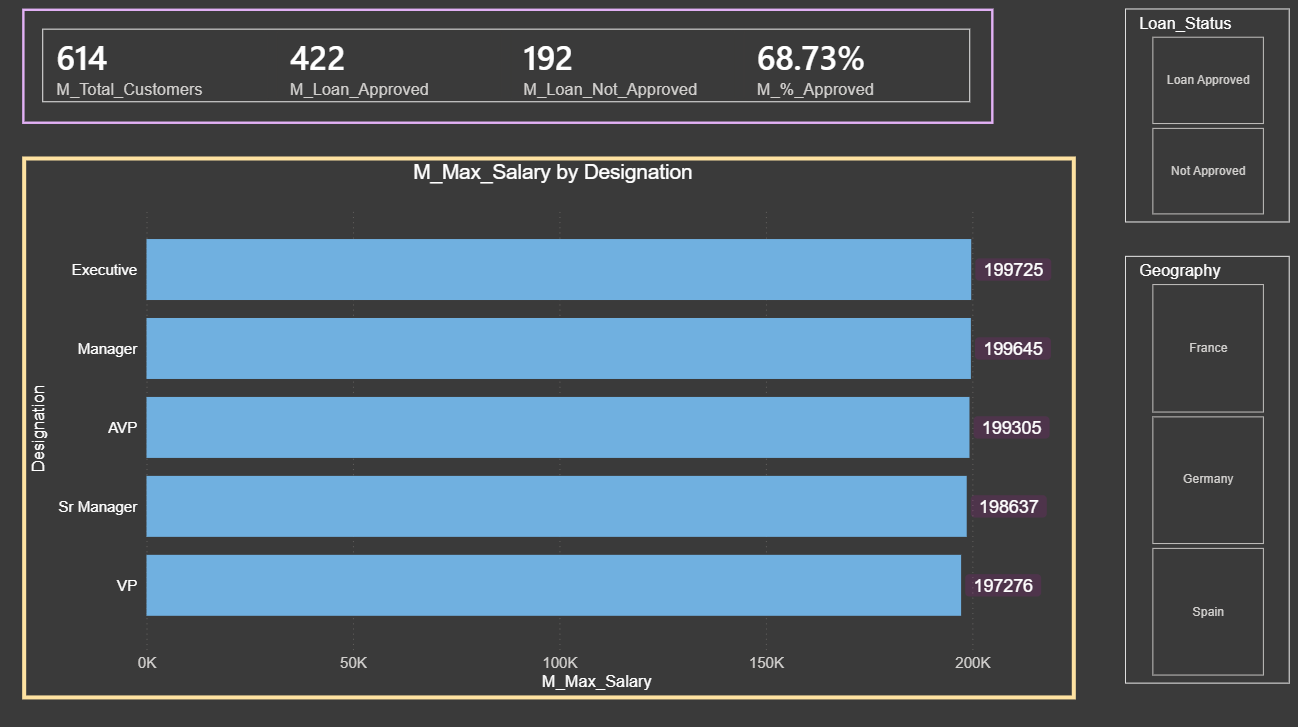

The dashboard page shown, as its layout file describes it:
{"tool":"powerbi","page":{"name":"Max Salary as per Designation","canvas":[1280,720],"ordinal":3},"visuals":[{"type":"clusteredBarChart","fields":{"Y":["LoanData.M_Max_Salary"],"Category":["LoanData.Designation"]},"box":[32,160,1024,528],"z":0},{"type":"cardVisual","fields":{"Data":["LoanData.M_Total_Customers","LoanData.M_Loan_Approved","LoanData.M_Loan_Not_Approved","LoanData.M_%_Approved"]},"box":[32,16,944,112],"z":1},{"type":"slicer","fields":{"Values":["LoanData.Loan_Status"]},"box":[1104,16,160,208],"z":2},{"type":"slicer","fields":{"Values":["LoanData.Geography"]},"box":[1104,256,160,416],"z":3}]}

Visuals, with their boxes in screenshot pixels (x1, y1, x2, y2), scaled from the page's 1280x720 canvas onto the 1298x727 screenshot:
clusteredBarChart - LoanData.M_Max_Salary x LoanData.Designation: bbox=(32, 162, 1071, 695)
cardVisual - LoanData.M_Total_Customers x LoanData.M_Loan_Approved: bbox=(32, 16, 990, 129)
slicer - LoanData.Loan_Status: bbox=(1120, 16, 1282, 226)
slicer - LoanData.Geography: bbox=(1120, 258, 1282, 679)
